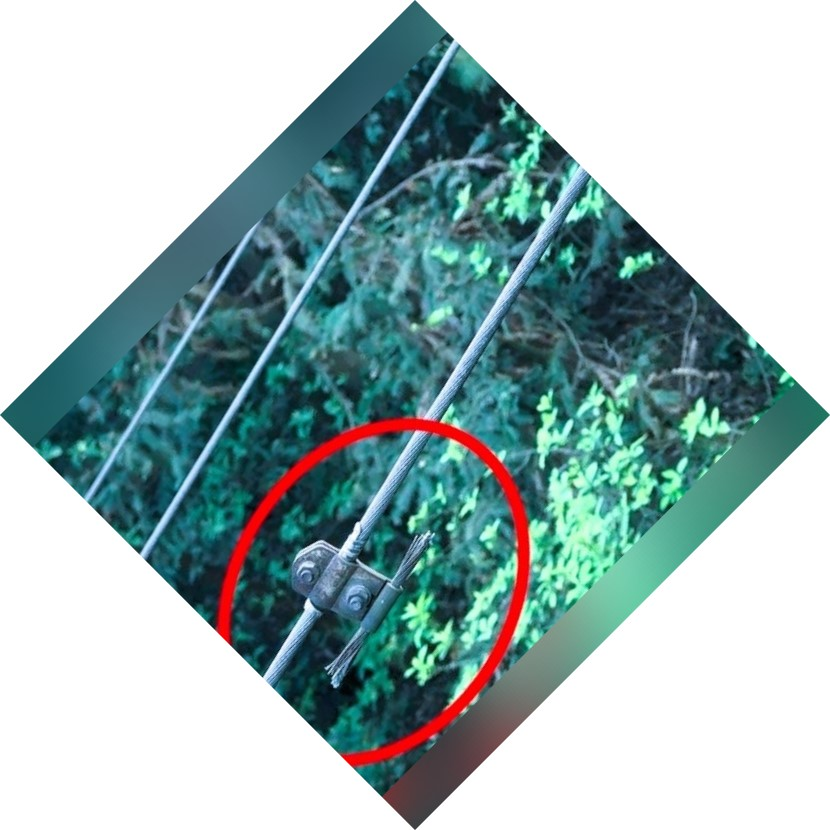Damage of shockproof hammer: (273, 516, 453, 691)
